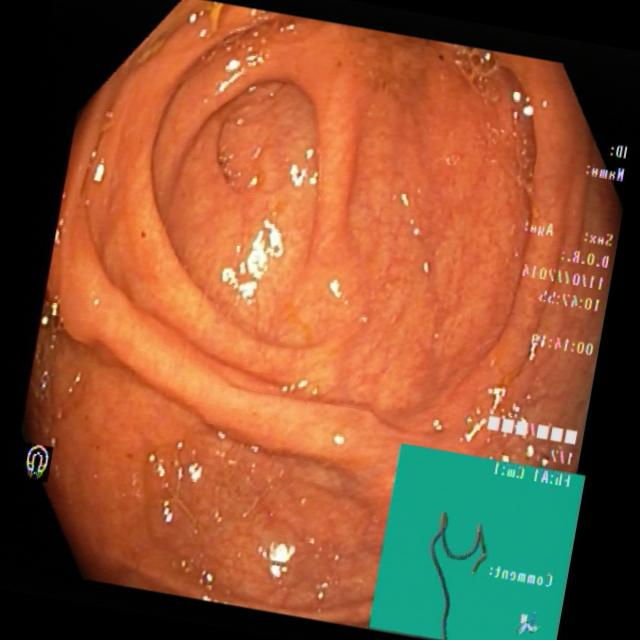normal-cecum: (116, 422, 389, 624)
